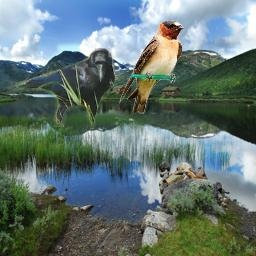Crow: (15, 48, 115, 127)
Swallow: (119, 20, 185, 114)
